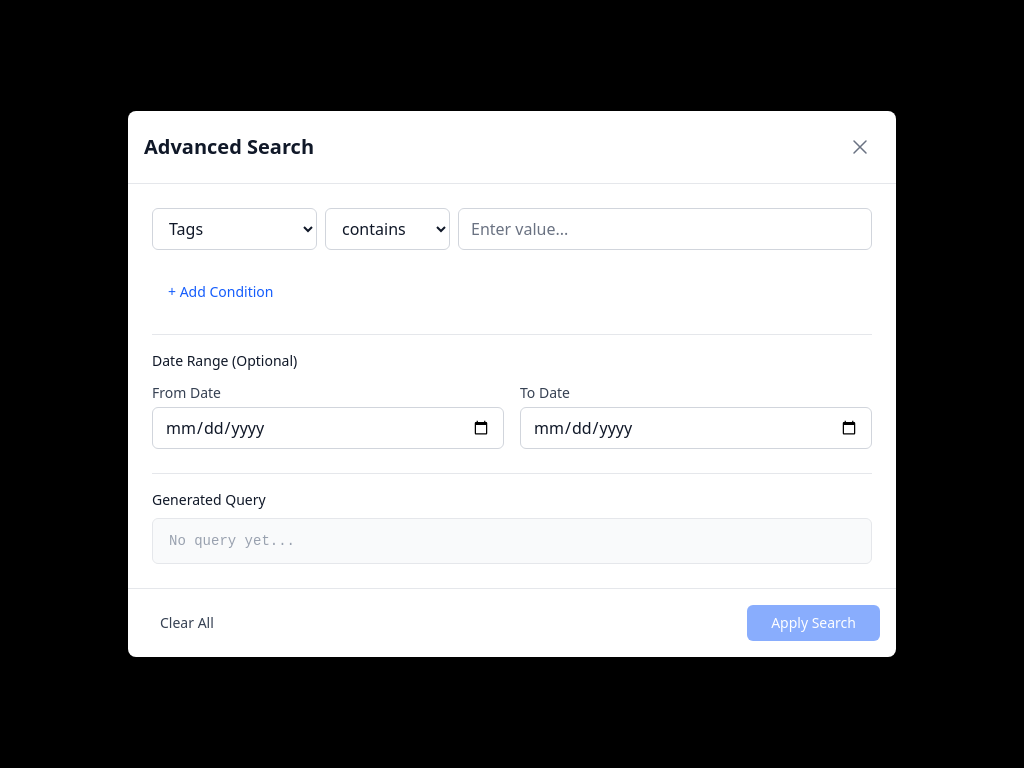
Test: AdvancedSearchBuilder › query preview › should show generated query preview
Select "Tags" in the dropdown named "field": (234, 229) [152,208,317,250]
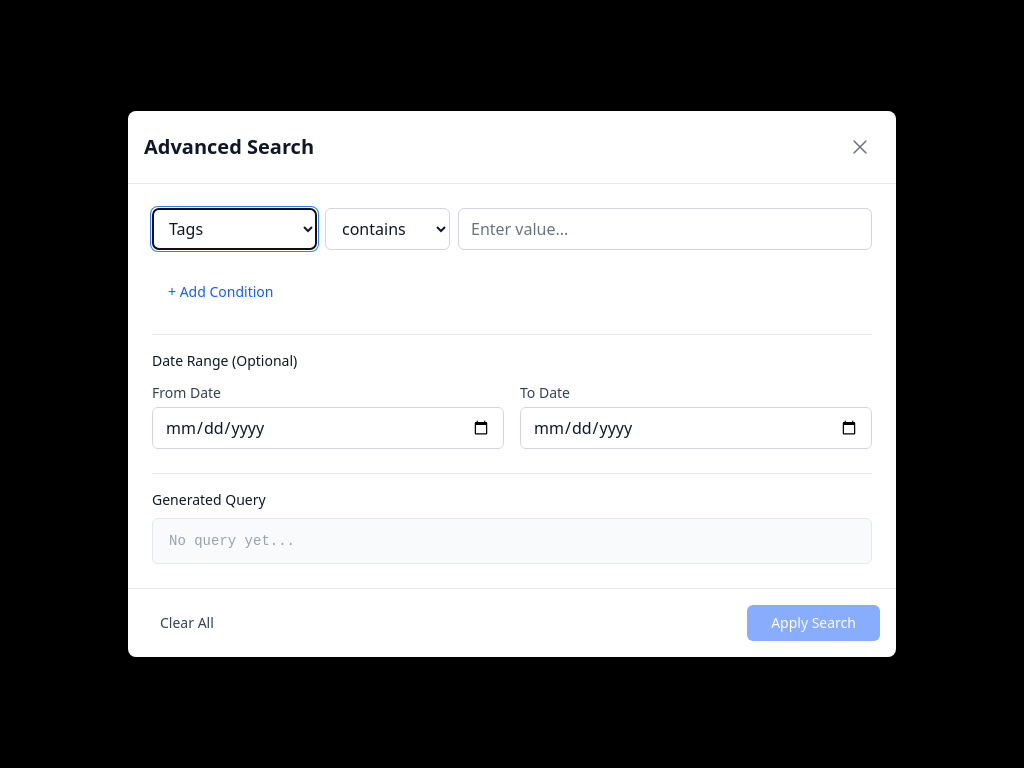
In the field labelled "Enter value...": (665, 229) [458,208,872,250], type "moth"
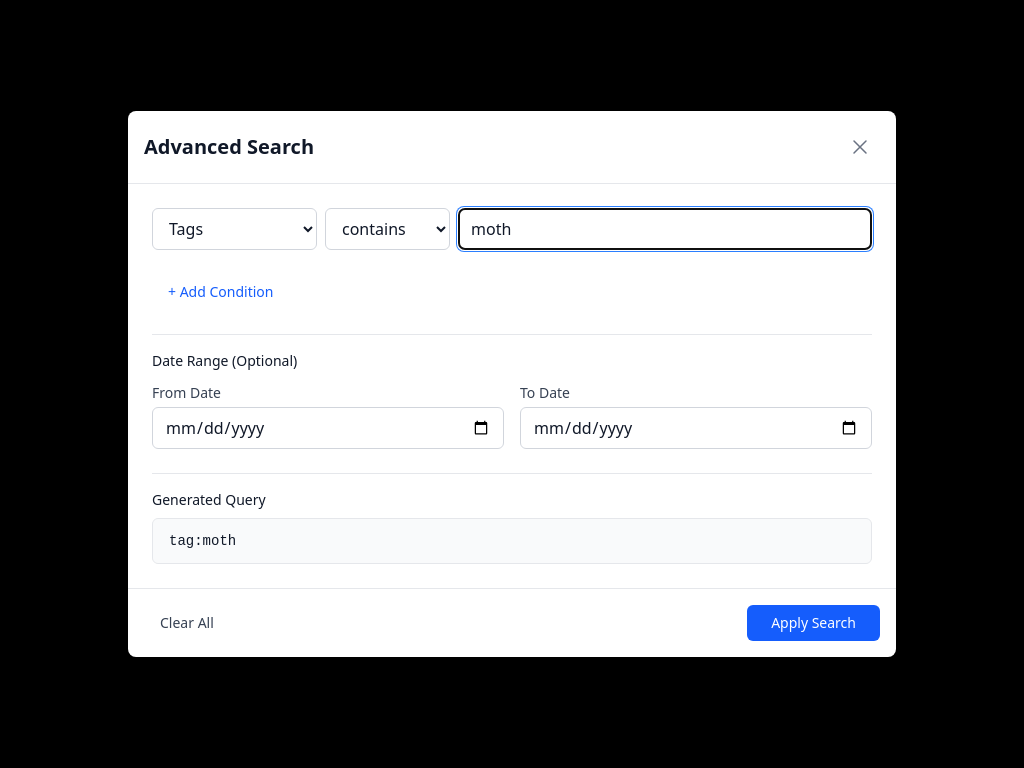
Expected: the text with test id "query-preview" reads "tag:moth", [169,533,236,549]
